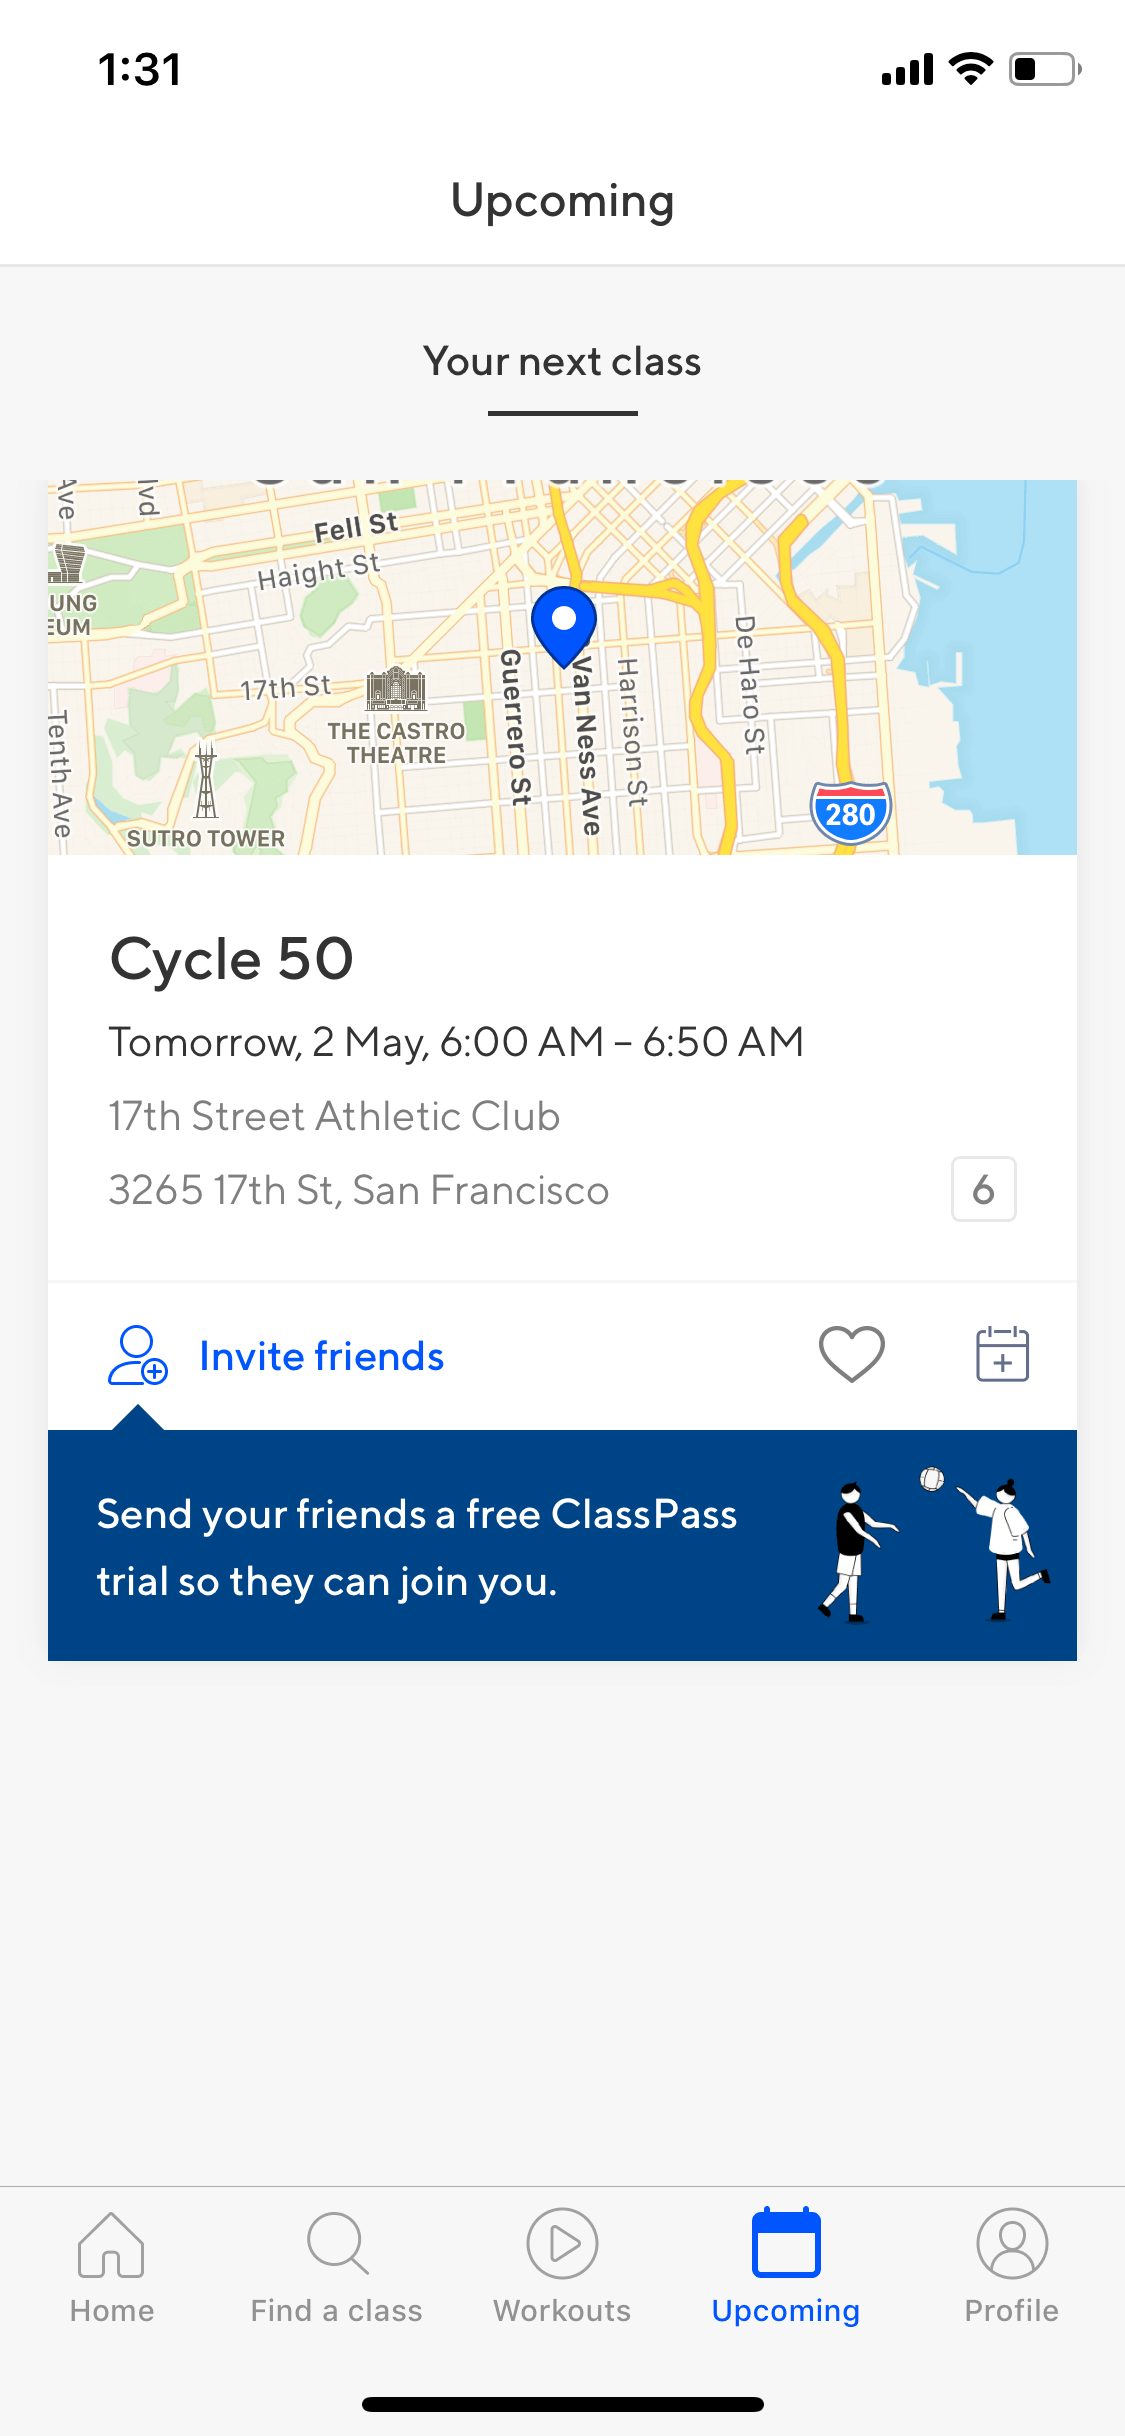Buttons: (82, 1293, 489, 1404), (796, 1300, 911, 1408), (960, 1303, 1061, 1411)
